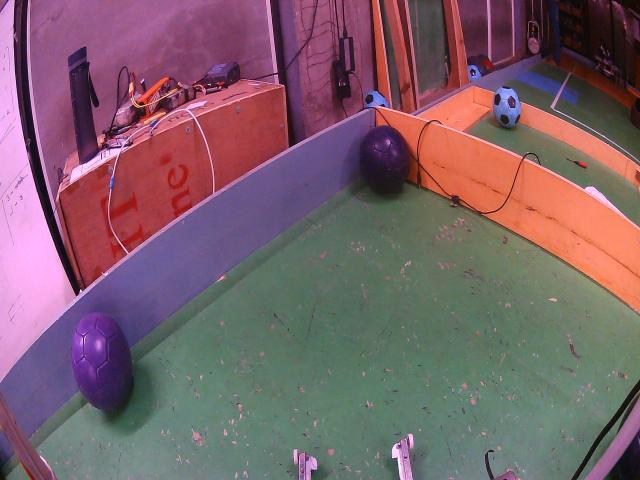jambhalya: (72, 314, 132, 410)
kaalyya: (360, 125, 411, 193)
